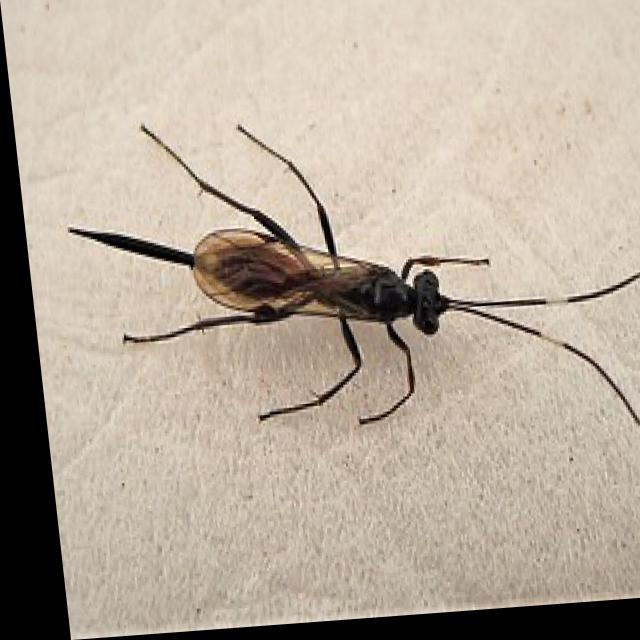Guepe: (39, 80, 639, 491)
